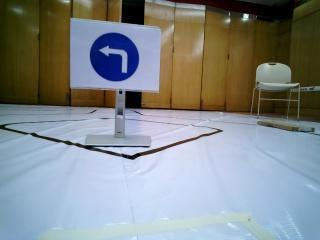left: (79, 22, 151, 87)
